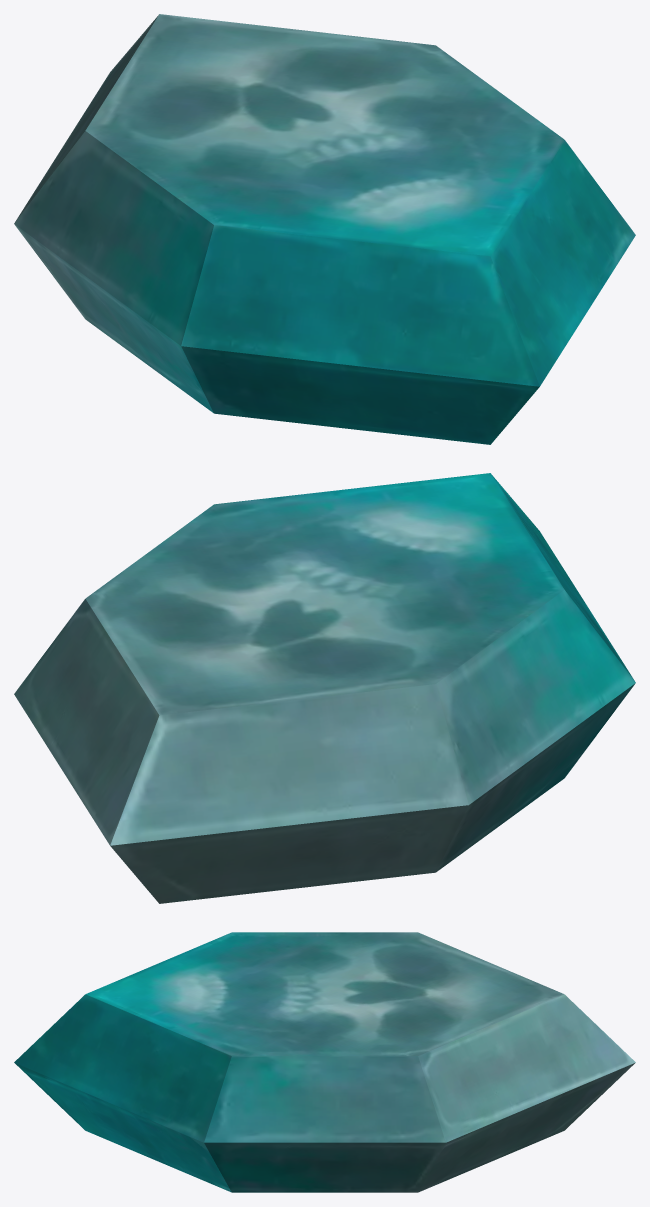
3 renders of one model, top to bottom at view 1: azimuth 30°, elevation 25°; view 2: azimuth 150°, elevation 25°; view 3: azimuth 270°, elevation 25°, orthographic. The views are drawn at different scales.
Parts seen in each view (by area): view 1: SM_Soul_Shard_01_LOD0; view 2: SM_Soul_Shard_01_LOD0; view 3: SM_Soul_Shard_01_LOD0.
Boxes of the visible parts, box(x1,y1,x2,y2) form: SM_Soul_Shard_01_LOD0: box(14, 14, 635, 444); SM_Soul_Shard_01_LOD0: box(14, 473, 635, 903); SM_Soul_Shard_01_LOD0: box(14, 932, 635, 1192).
Bounding box in the file's own units: 0.2404 × 0.0953 × 0.3935.
Materials: 1 (1 with a texture image).
